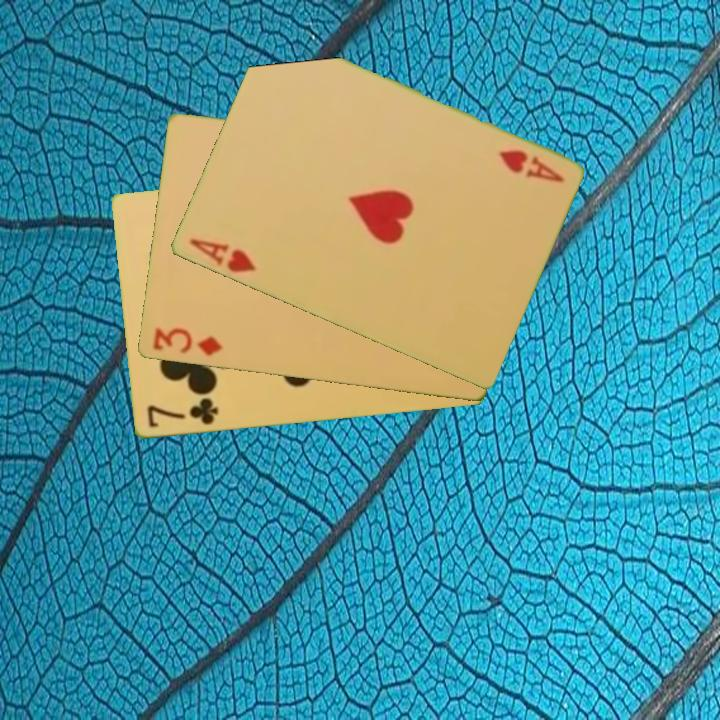3d: (149, 324, 225, 359)
7c: (143, 394, 221, 431)
Ah: (185, 235, 258, 276), (494, 146, 566, 186)
